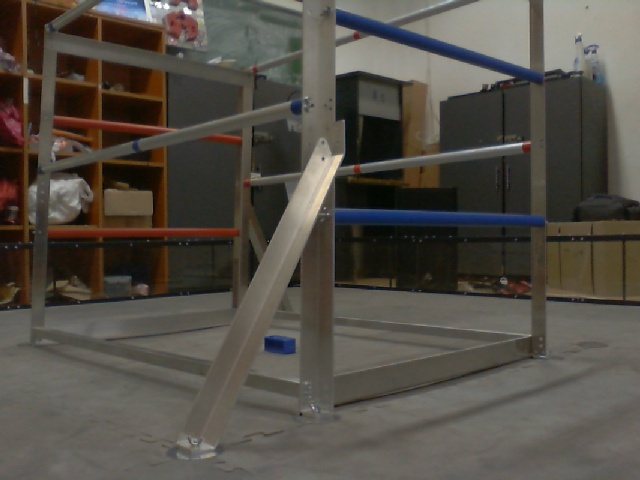BlueSample: (260, 330, 298, 358)
